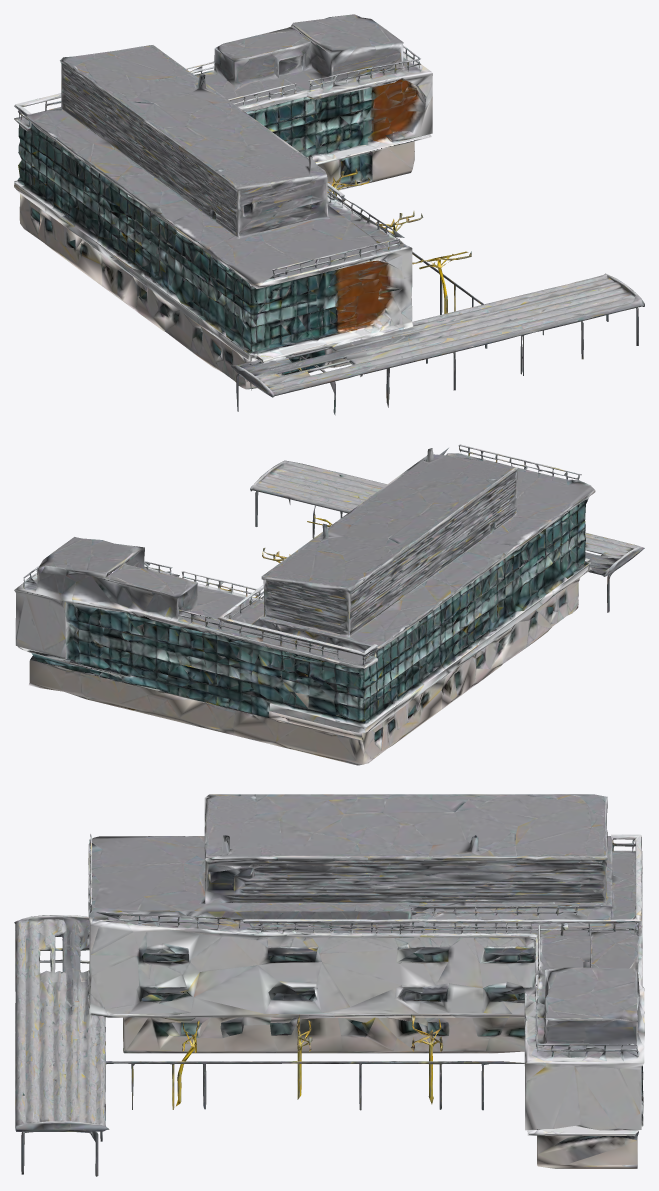
File: ou_campus-low.glb
3 views of the same model, one above another, from view 1: azimuth 30°, elevation 25°; view 2: azimuth 150°, elevation 25°; view 3: azimuth 270°, elevation 25° (orthographic). The views are drawn at different scales.
Bounding box in the file's own units: 1.55 × 0.7003 × 1.93.
Materials: 1 (1 with a texture image).
